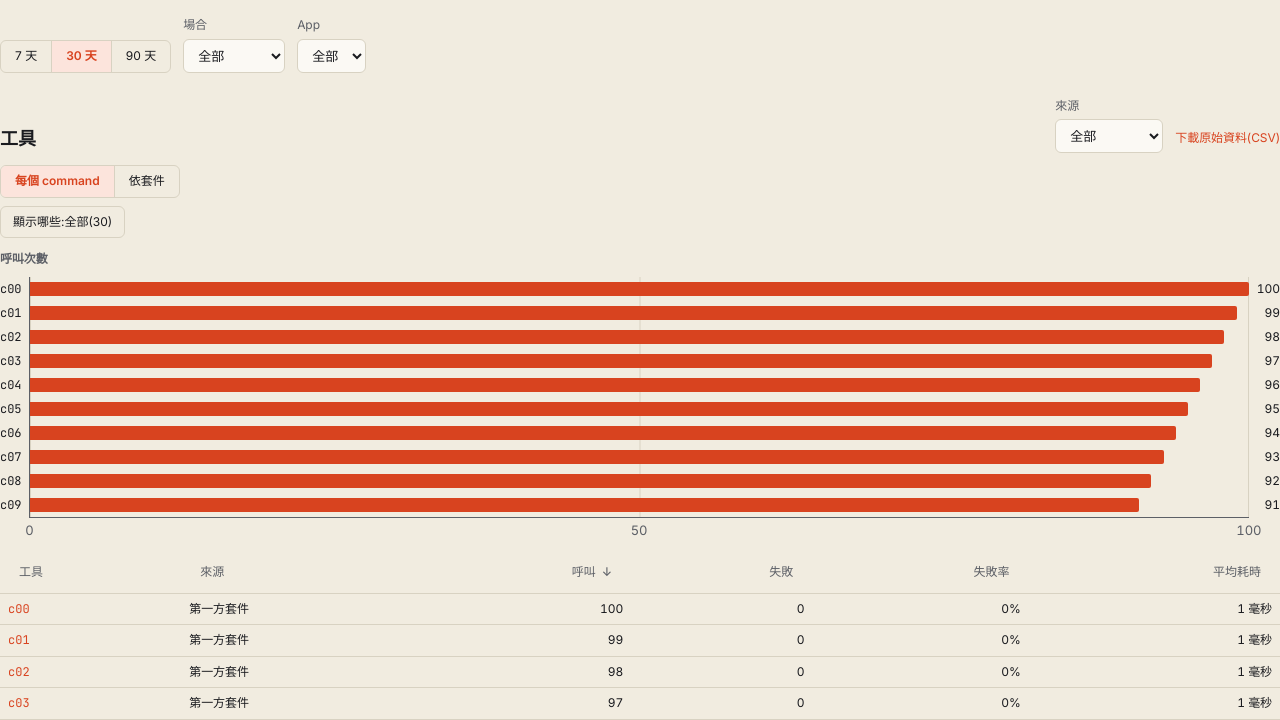
Test: which tools, at which granularity (plan §9) › names the count instead of the names once more than twenty are picked
Click the button "顯示哪些:全部(30)" at (63, 222), box [0,206,125,238]
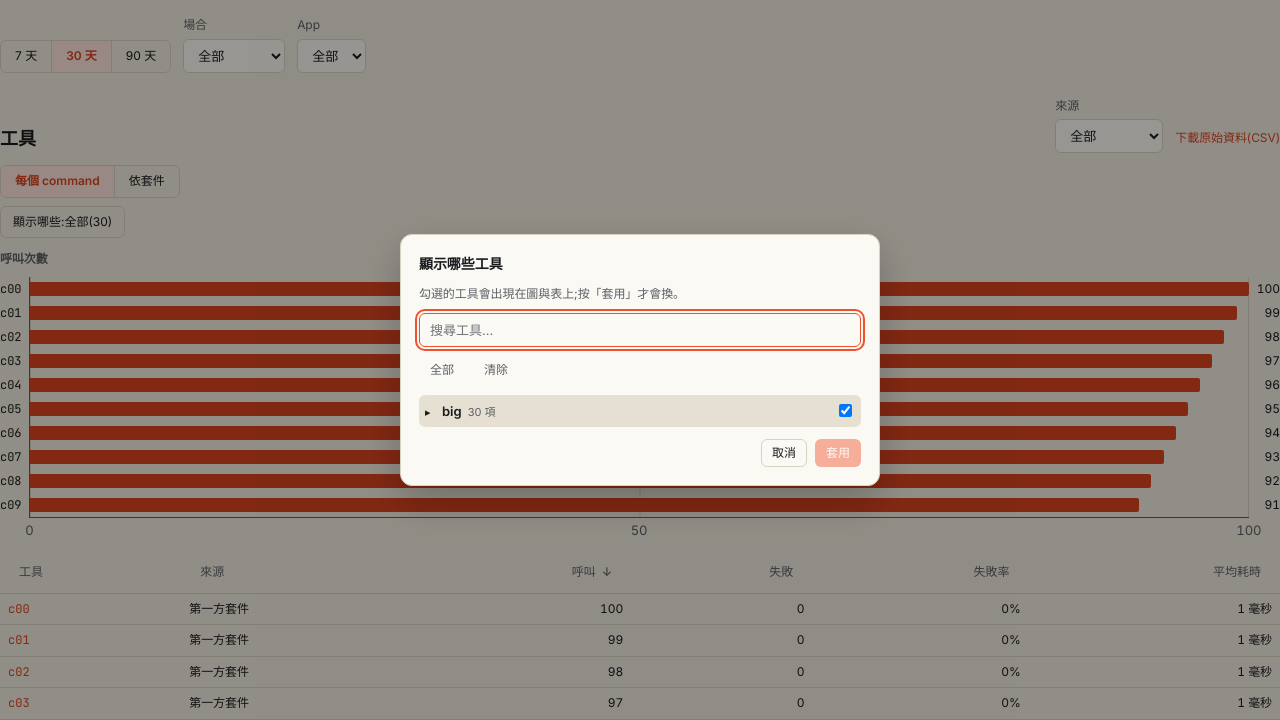
Click the button "▸ big 30 項" at (428, 412), box [425,401,825,421]
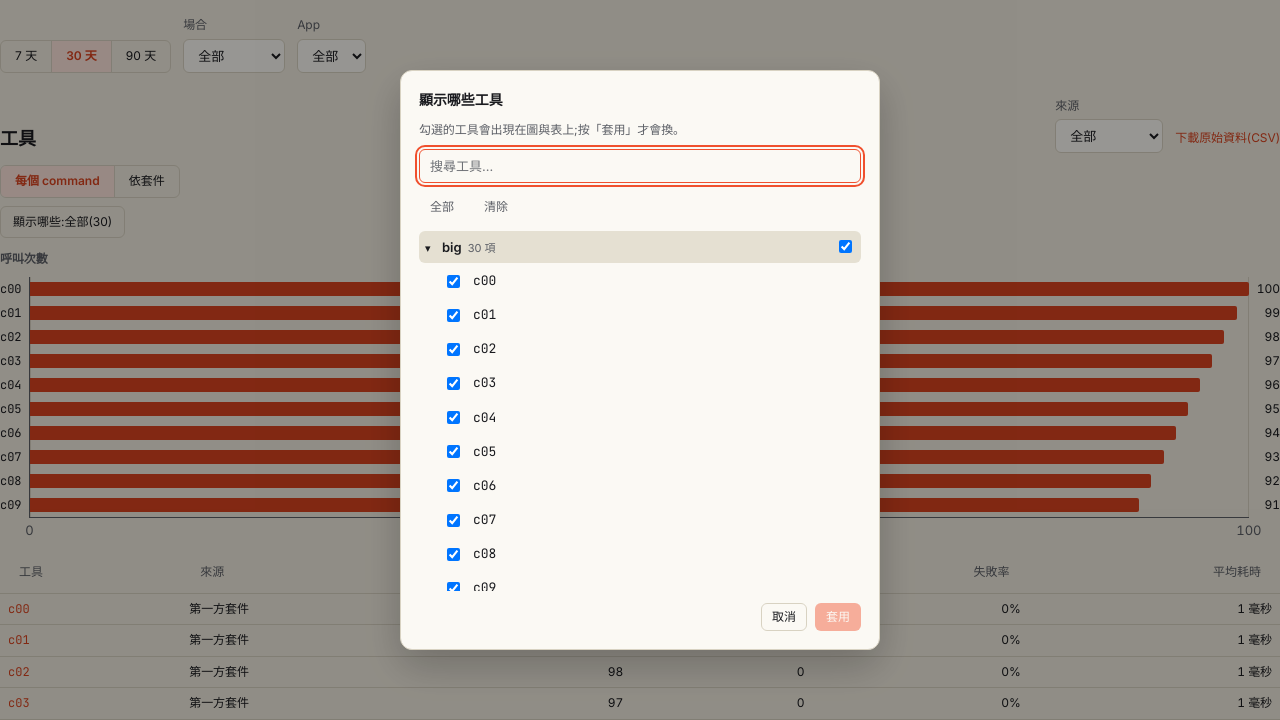
Click the checkbox labelled "c00" at (454, 281), box [447,274,460,288]
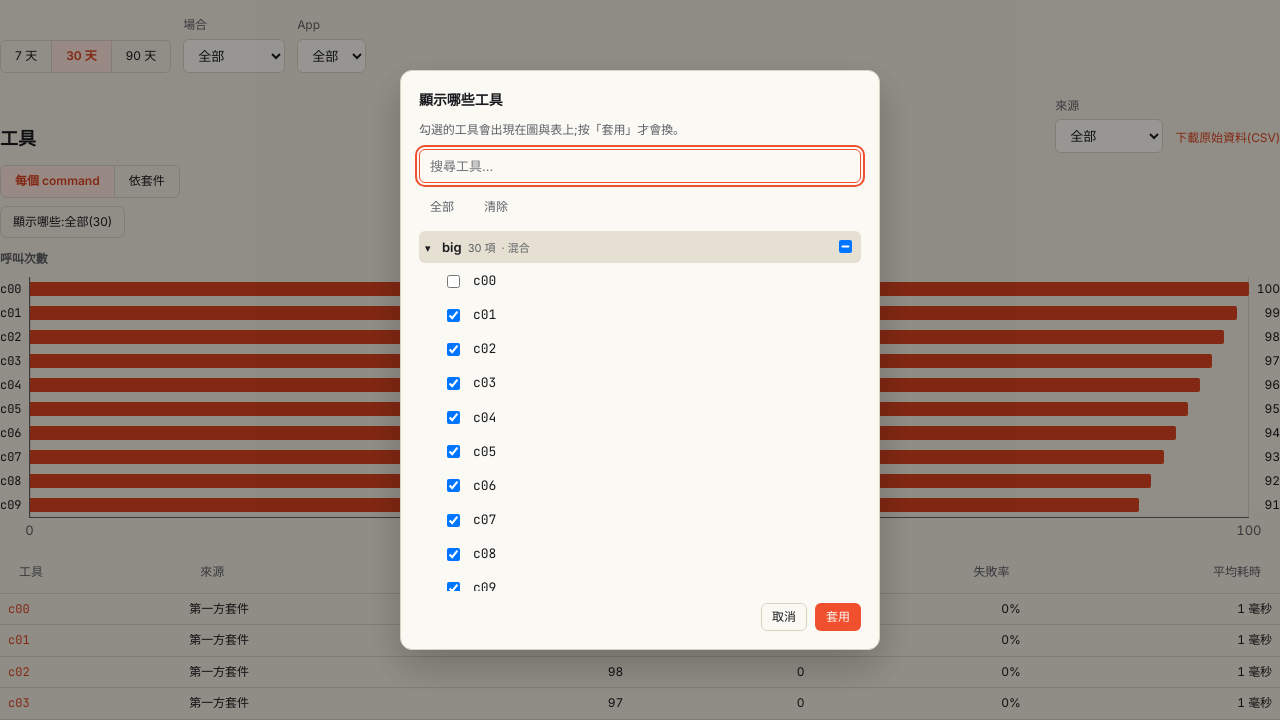
Click the button "套用" at (838, 617), box [815,603,861,631]
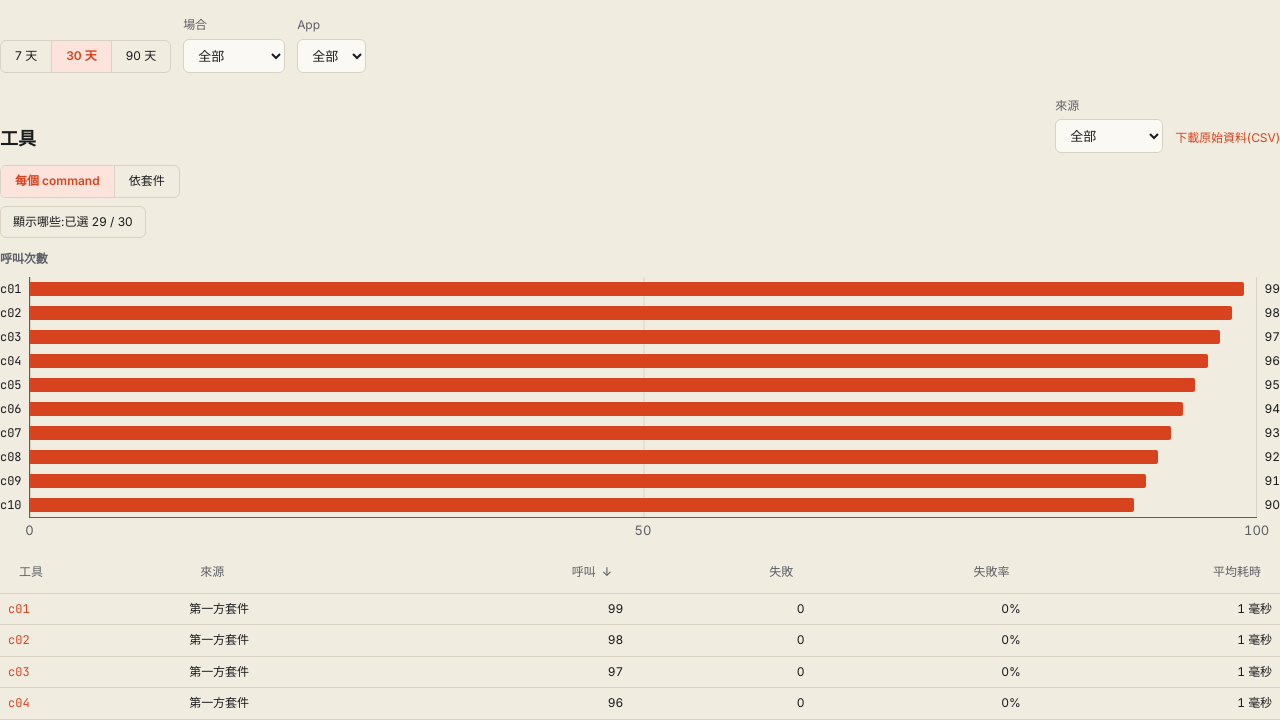
Expected: the button "顯示哪些:已選 29 / 30" is shown, [0,206,146,238]
